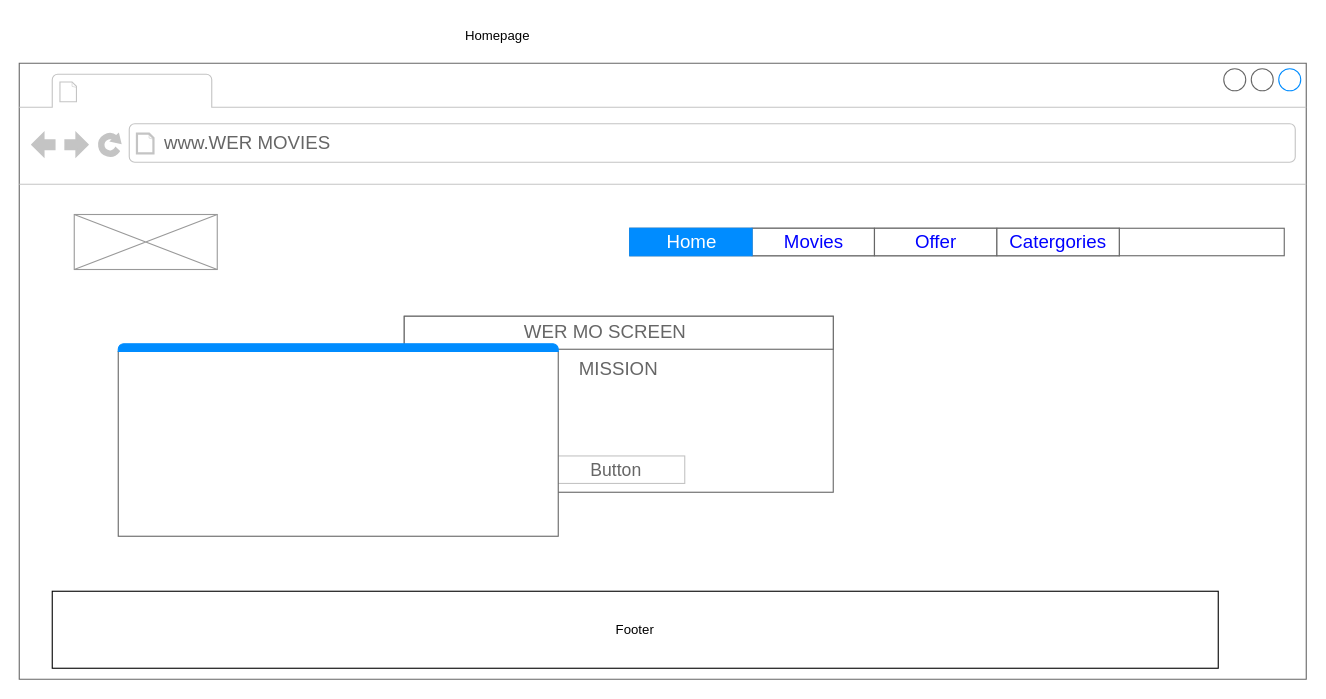
The diagram is 1326 pixels wide and 699 high, and some of its shapes have lost their labels. Each missing label, with the centre of its shape:
"Experience" goes at [1201,241].
"LOGO" goes at [145,241].
"WER SCREEN" goes at [156,90].
